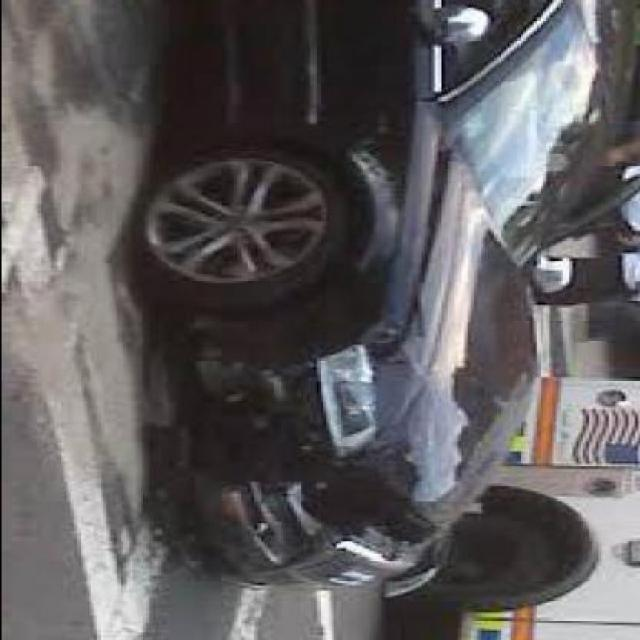damage: (167, 315, 452, 574)
